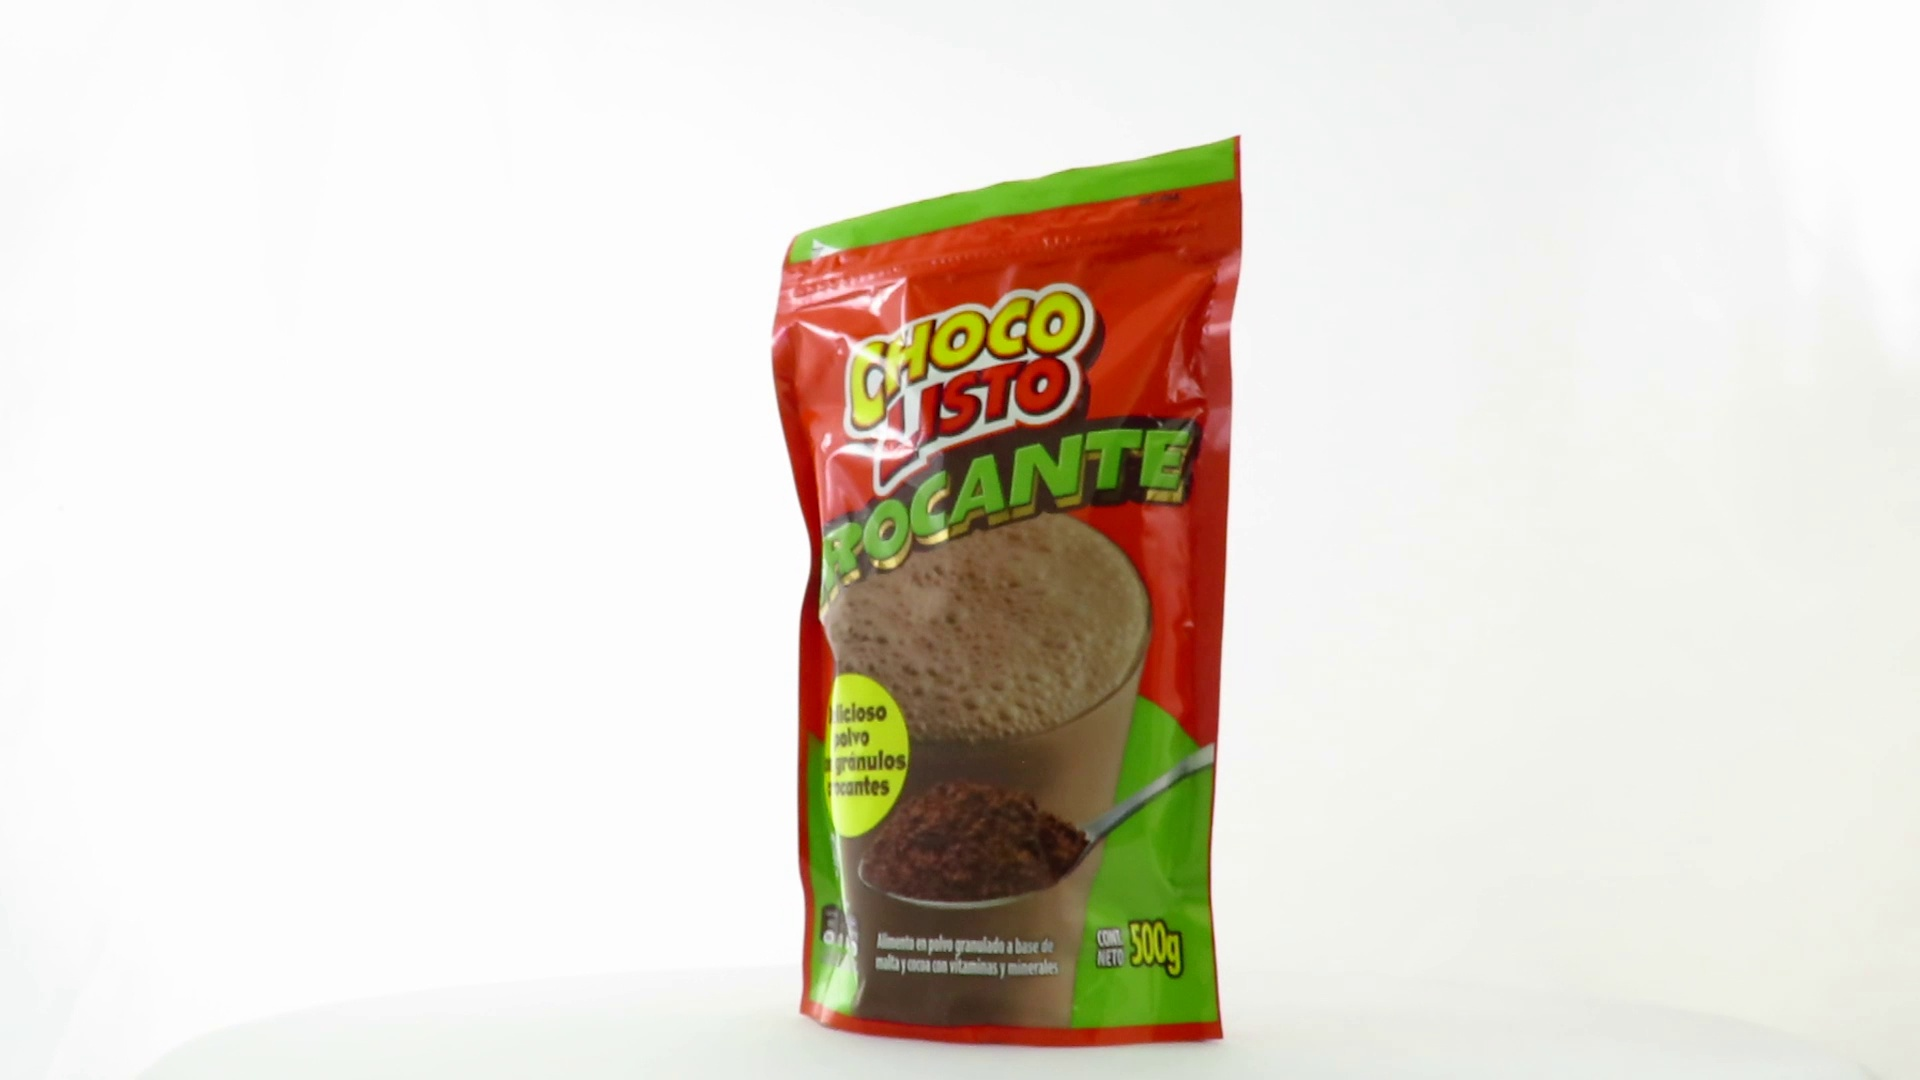COL0170102DYP50000: (766, 131, 1247, 1054)
